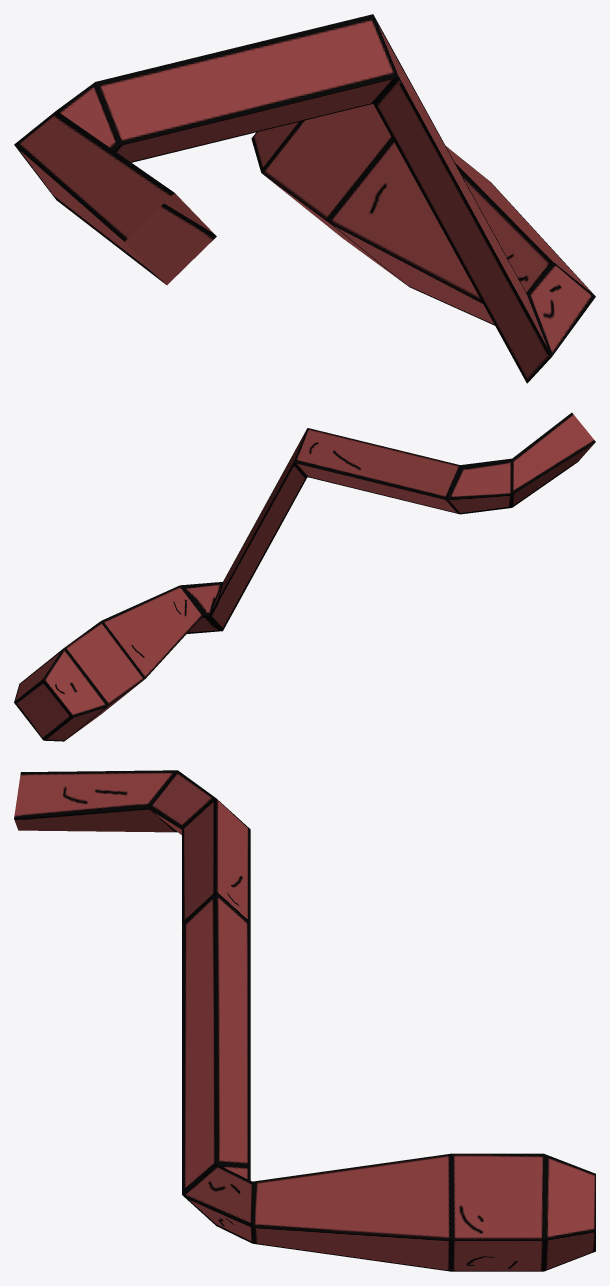
The model's file is manivelle.fbx.
3 views of the same model, one above another, from view 1: azimuth 30°, elevation 25°; view 2: azimuth 150°, elevation 25°; view 3: azimuth 270°, elevation 25° (orthographic). The views are drawn at different scales.
Visible parts, largest first — view 1: manivelle_puit; view 2: manivelle_puit; view 3: manivelle_puit.
Part boxes in pixels (bbox=[...]): manivelle_puit: bbox=[14, 14, 595, 383]; manivelle_puit: bbox=[14, 412, 595, 741]; manivelle_puit: bbox=[14, 770, 595, 1271].
Bounding box in the file's own units: 18.29 × 11.81 × 19.76.
